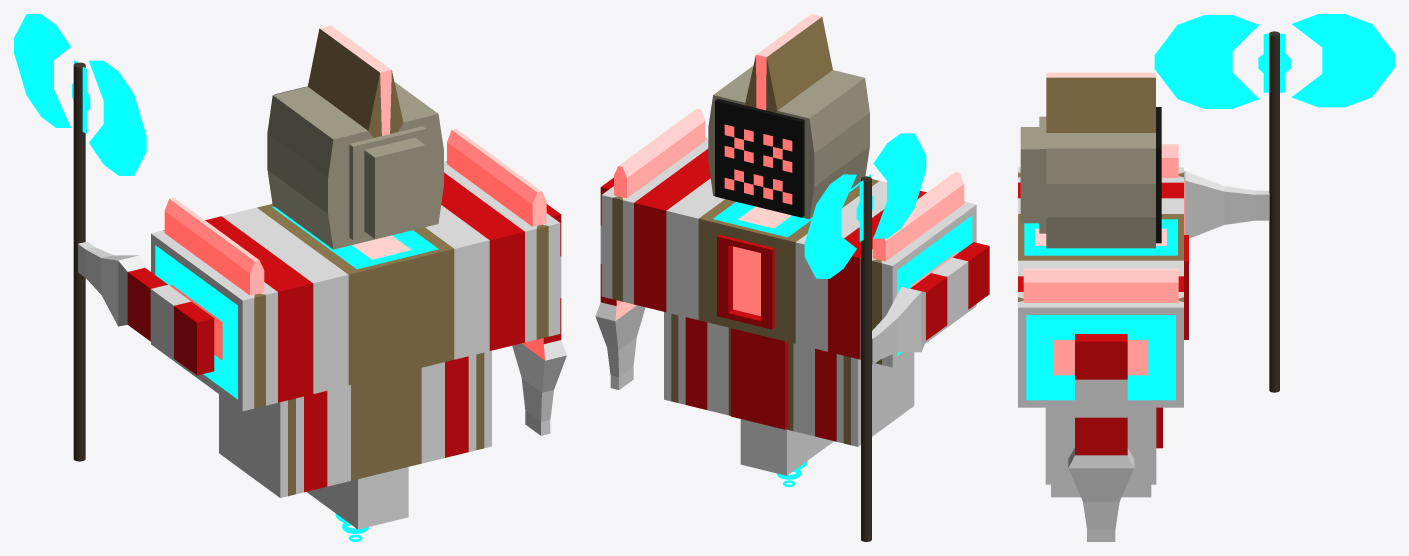
File: MeleeType1.fbx
3 views of the same model, side by side, from view 1: azimuth 30°, elevation 25°; view 2: azimuth 150°, elevation 25°; view 3: azimuth 270°, elevation 25° (orthographic). The views are drawn at different scales.
Parts seen in each view (by area): view 1: Melee1; view 2: Melee1; view 3: Melee1.
Boxes of the visible parts, <box> form: Melee1: <box>14,14,566,541</box>; Melee1: <box>595,14,989,541</box>; Melee1: <box>1018,14,1394,541</box>.
Size of the model in its own units: 363 by 442 by 340.
